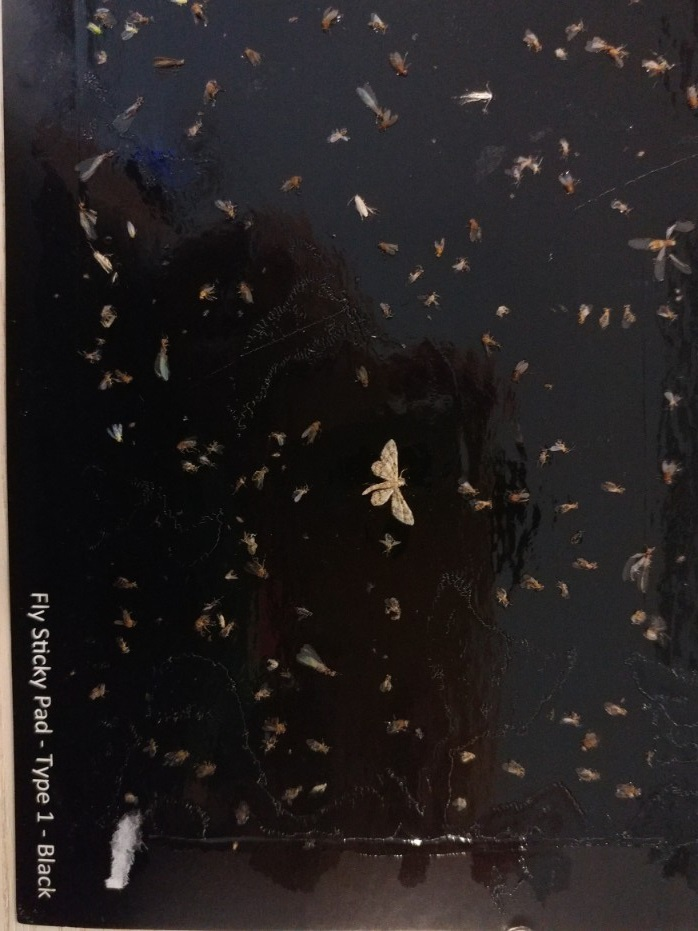moth: (347, 434, 438, 539), (140, 324, 175, 380)
